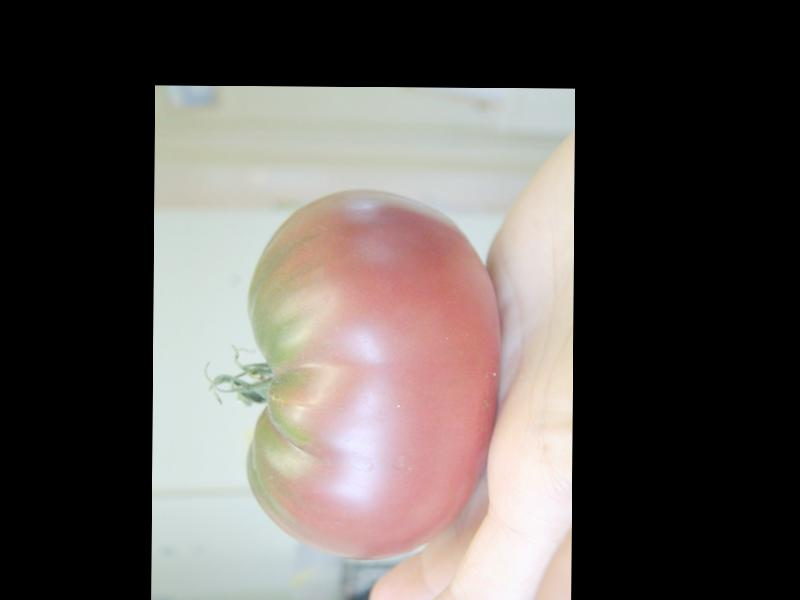Tomato: (244, 188, 501, 560)
